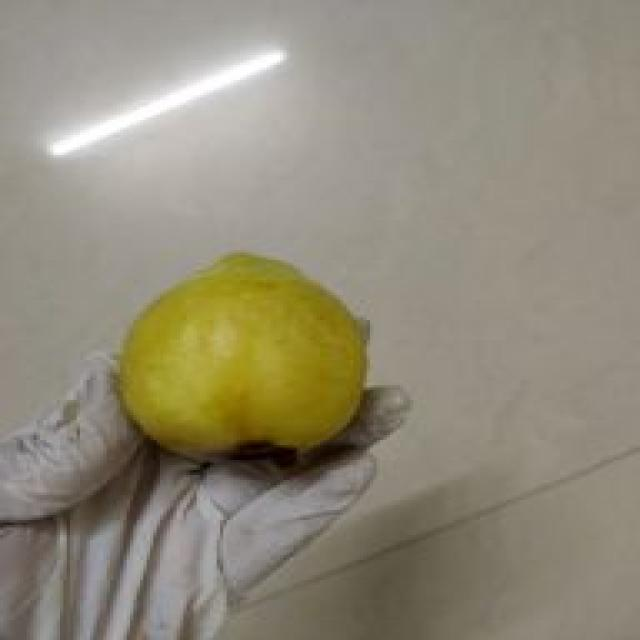Good_Guava: (113, 252, 367, 465)
